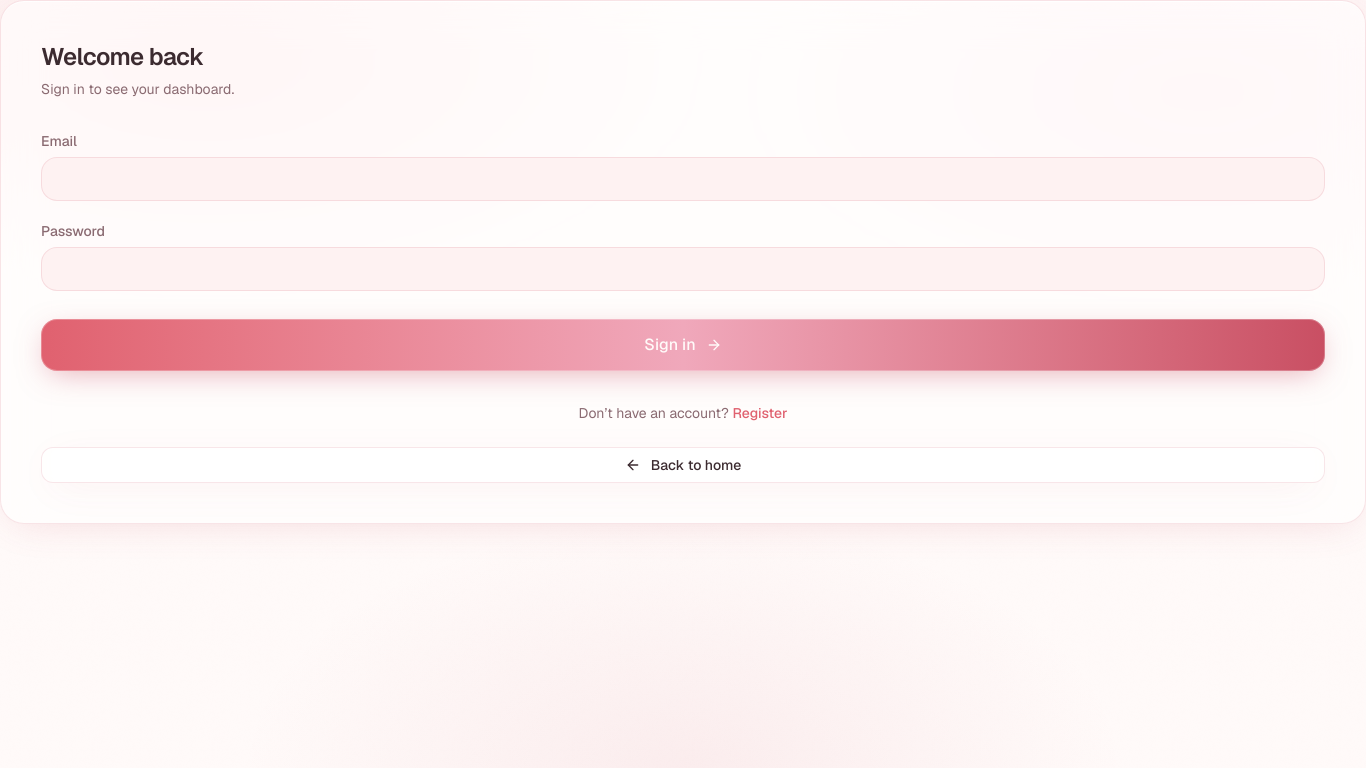
Test: LoginPage › shows an error message when login fails
The width and height of the screenshot is (1366, 768).
Type "user@example.com" into the field labelled "Email" at (683, 179), box top-left (41, 157), bottom-right (1325, 201)
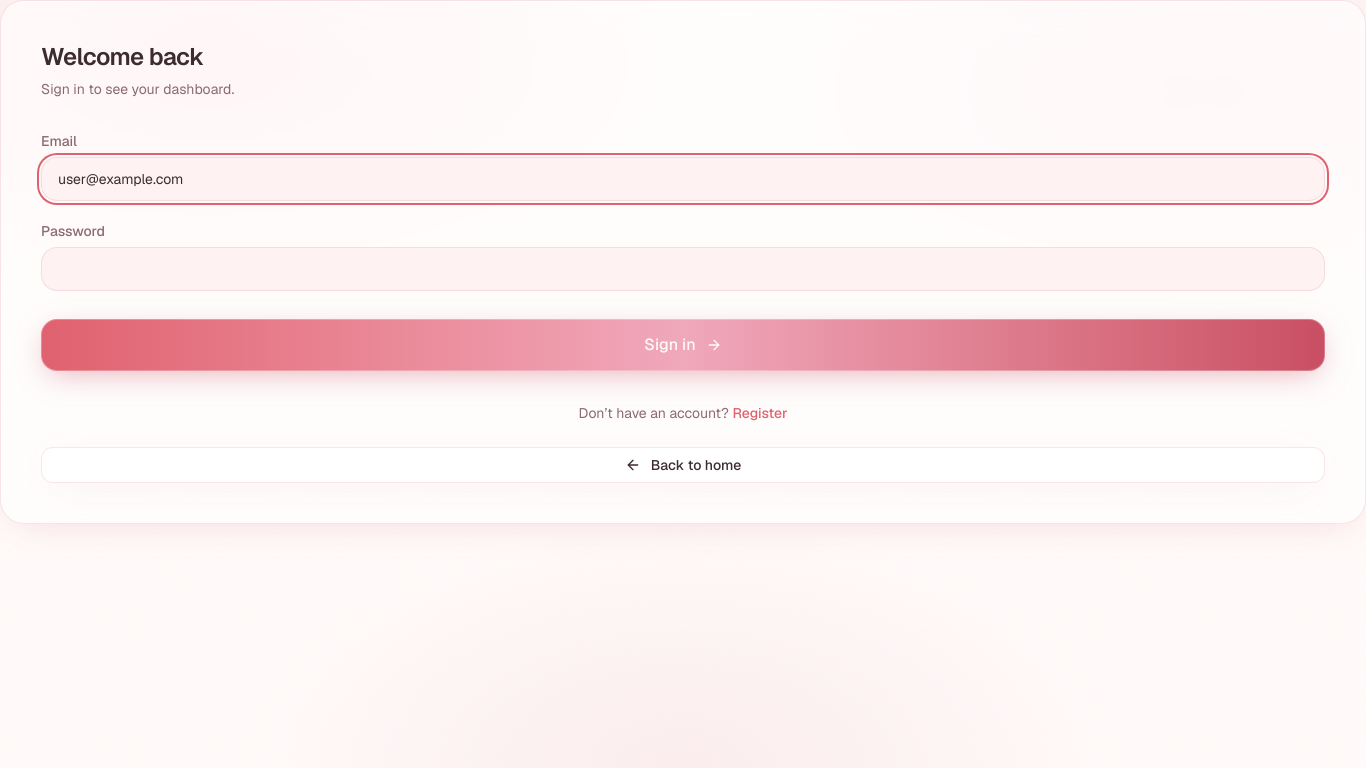
Type "wrongpassword" into the password field labelled "Password" at (683, 269), box top-left (41, 247), bottom-right (1325, 291)
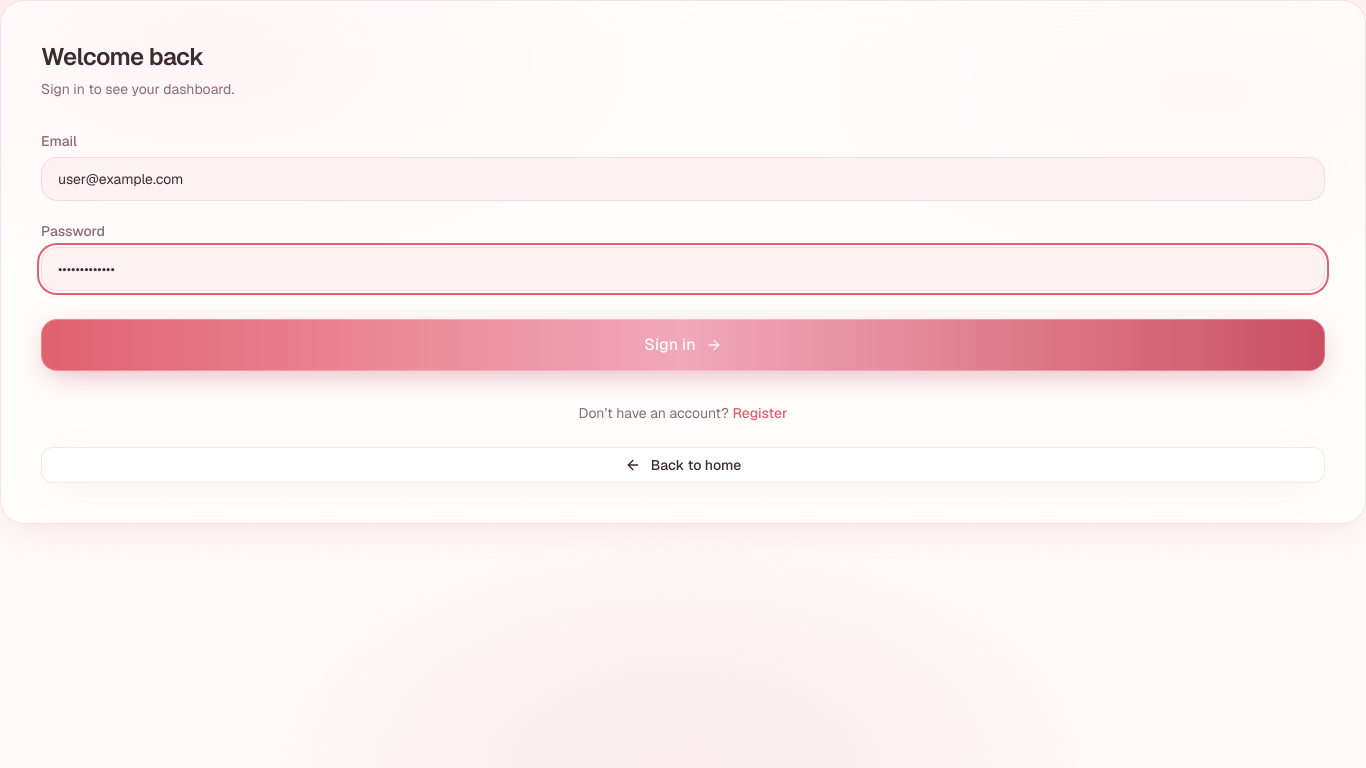
Click the button "Sign in" at (683, 345), box top-left (41, 319), bottom-right (1325, 371)
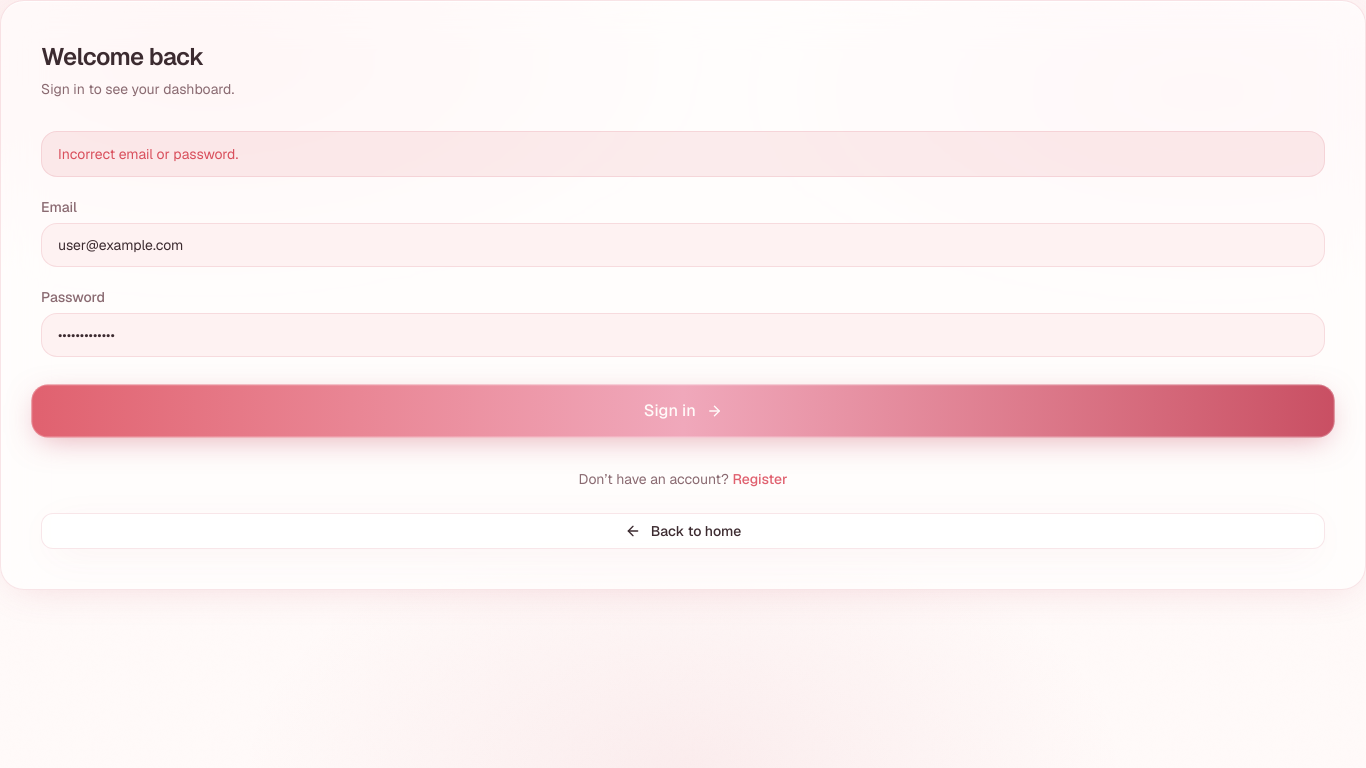
Expected: the text "Incorrect email or password." is shown, top-left (41, 131), bottom-right (1325, 177)
